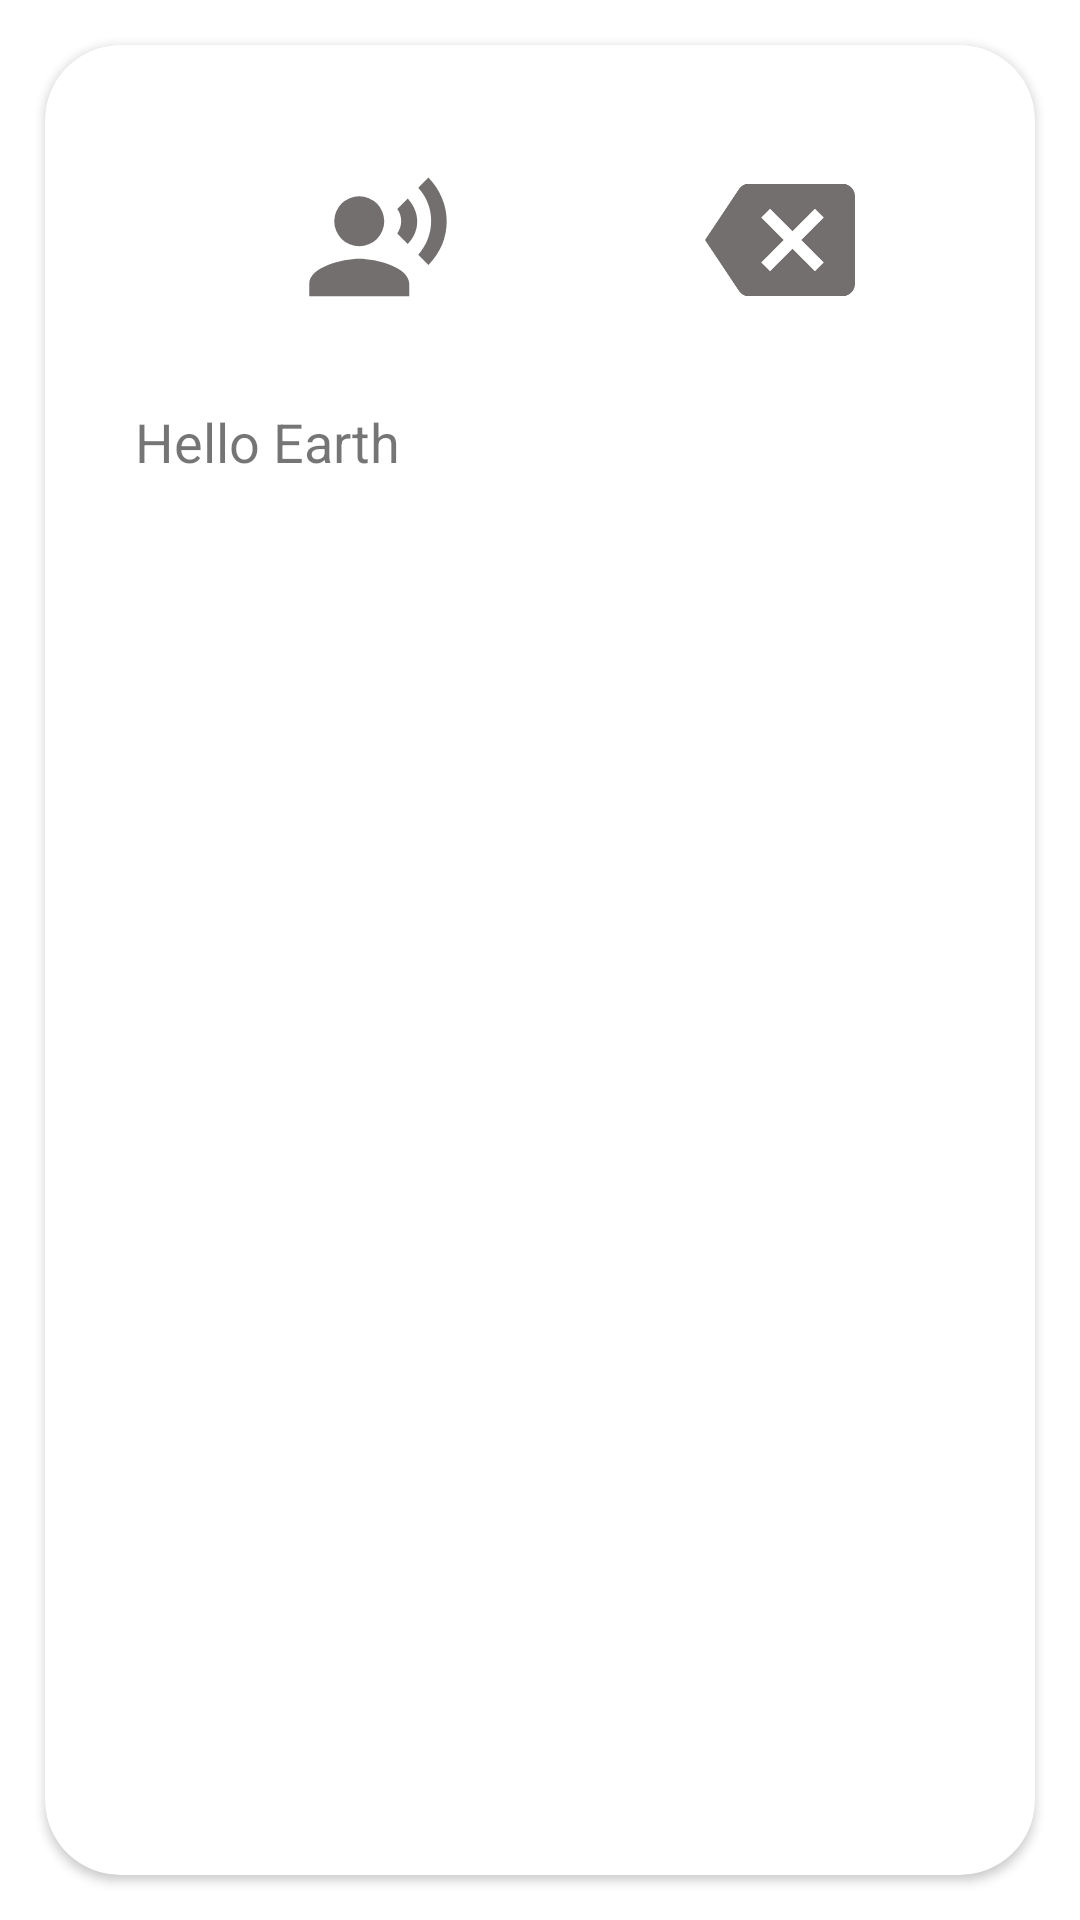

Where icons sit on this 1080px×1920px app screen, as (x1, y1, x2, y2):
backspace: (705, 184, 855, 296)
record voice over: (309, 177, 447, 297)
